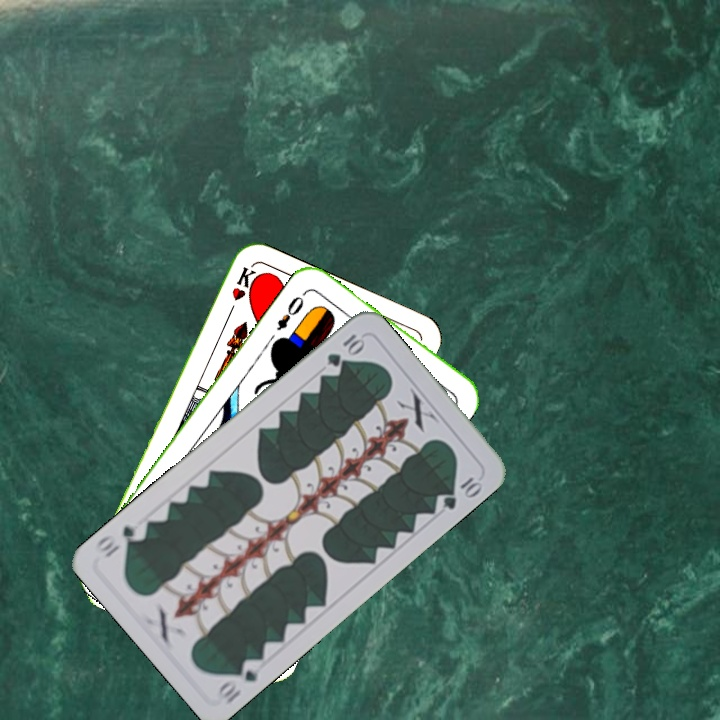EO: (272, 292, 307, 334)
G10: (214, 654, 266, 707), (323, 329, 368, 370)
HK: (223, 263, 259, 320)
